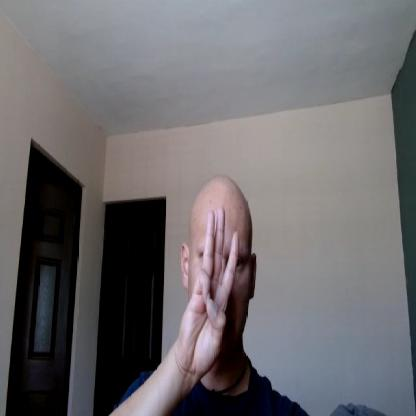W: (179, 206, 240, 370)
